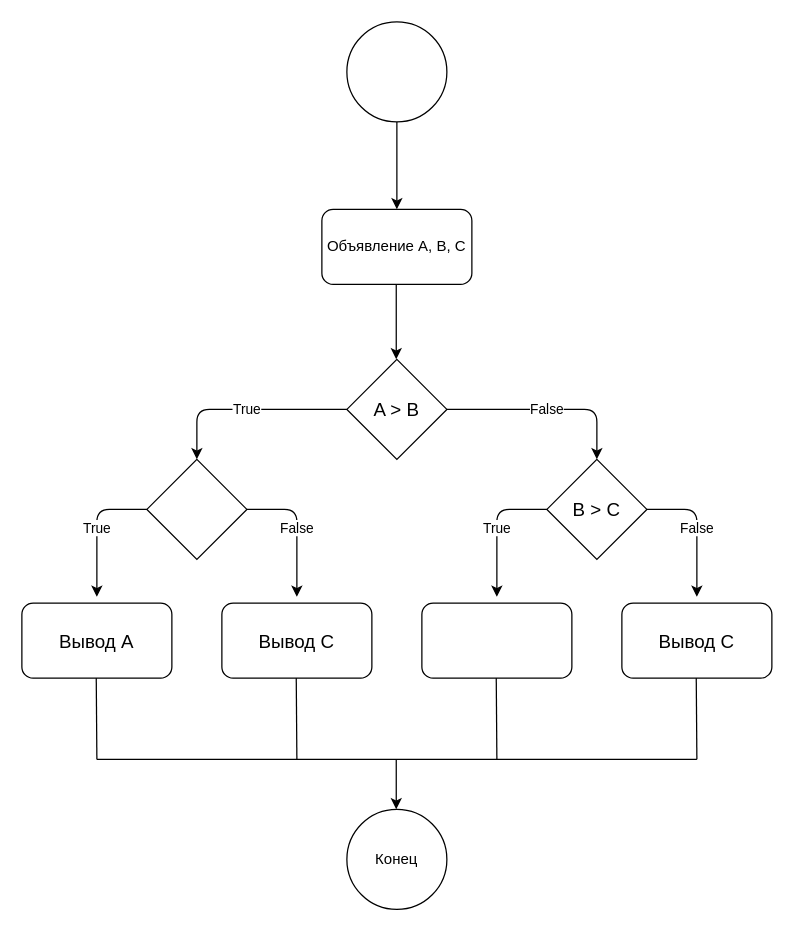
This 794x931 diagram has some shape labels left out. Here are the shapes that lost their labels. From the top down, the centre of each, then its label:
At (396,71): "Начало".
At (196,508): "A > C".
At (496,640): "Вывод B".
